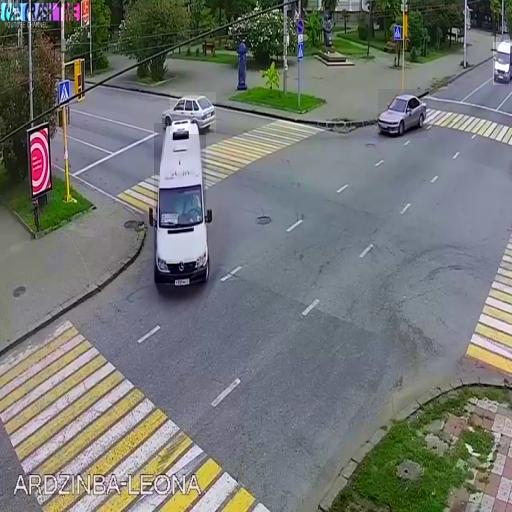小汽车: (154, 123, 206, 283), (378, 89, 428, 138), (170, 92, 216, 134), (493, 42, 510, 85)
